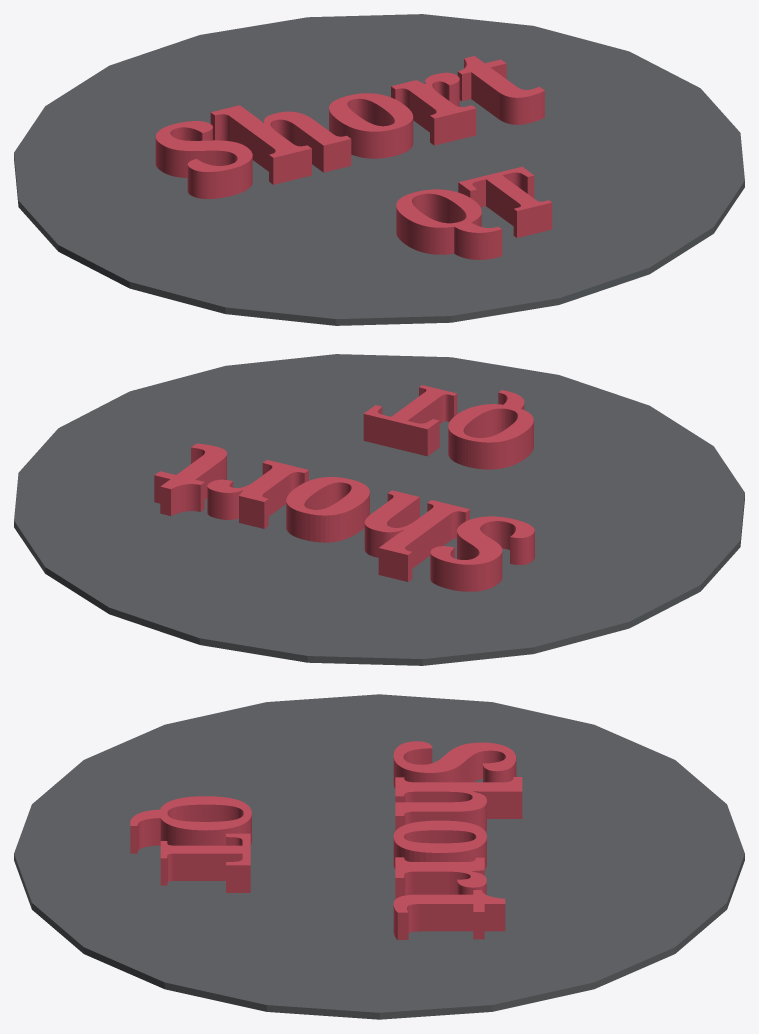
3 renders of one model, top to bottom at view 1: azimuth 30°, elevation 25°; view 2: azimuth 150°, elevation 25°; view 3: azimuth 270°, elevation 25°, orthographic.
Parts seen in each view (by area): view 1: Mesh_Mesh_head_geo001_lambert2SG001; view 2: Mesh_Mesh_head_geo001_lambert2SG001; view 3: Mesh_Mesh_head_geo001_lambert2SG001.
Boxes of the visible parts, x1=… form: Mesh_Mesh_head_geo001_lambert2SG001: x1=14, y1=14, x2=744, y2=325; Mesh_Mesh_head_geo001_lambert2SG001: x1=14, y1=354, x2=744, y2=665; Mesh_Mesh_head_geo001_lambert2SG001: x1=14, y1=694, x2=744, y2=1019.
Size of the model in its own units: 199 by 10 by 193.
